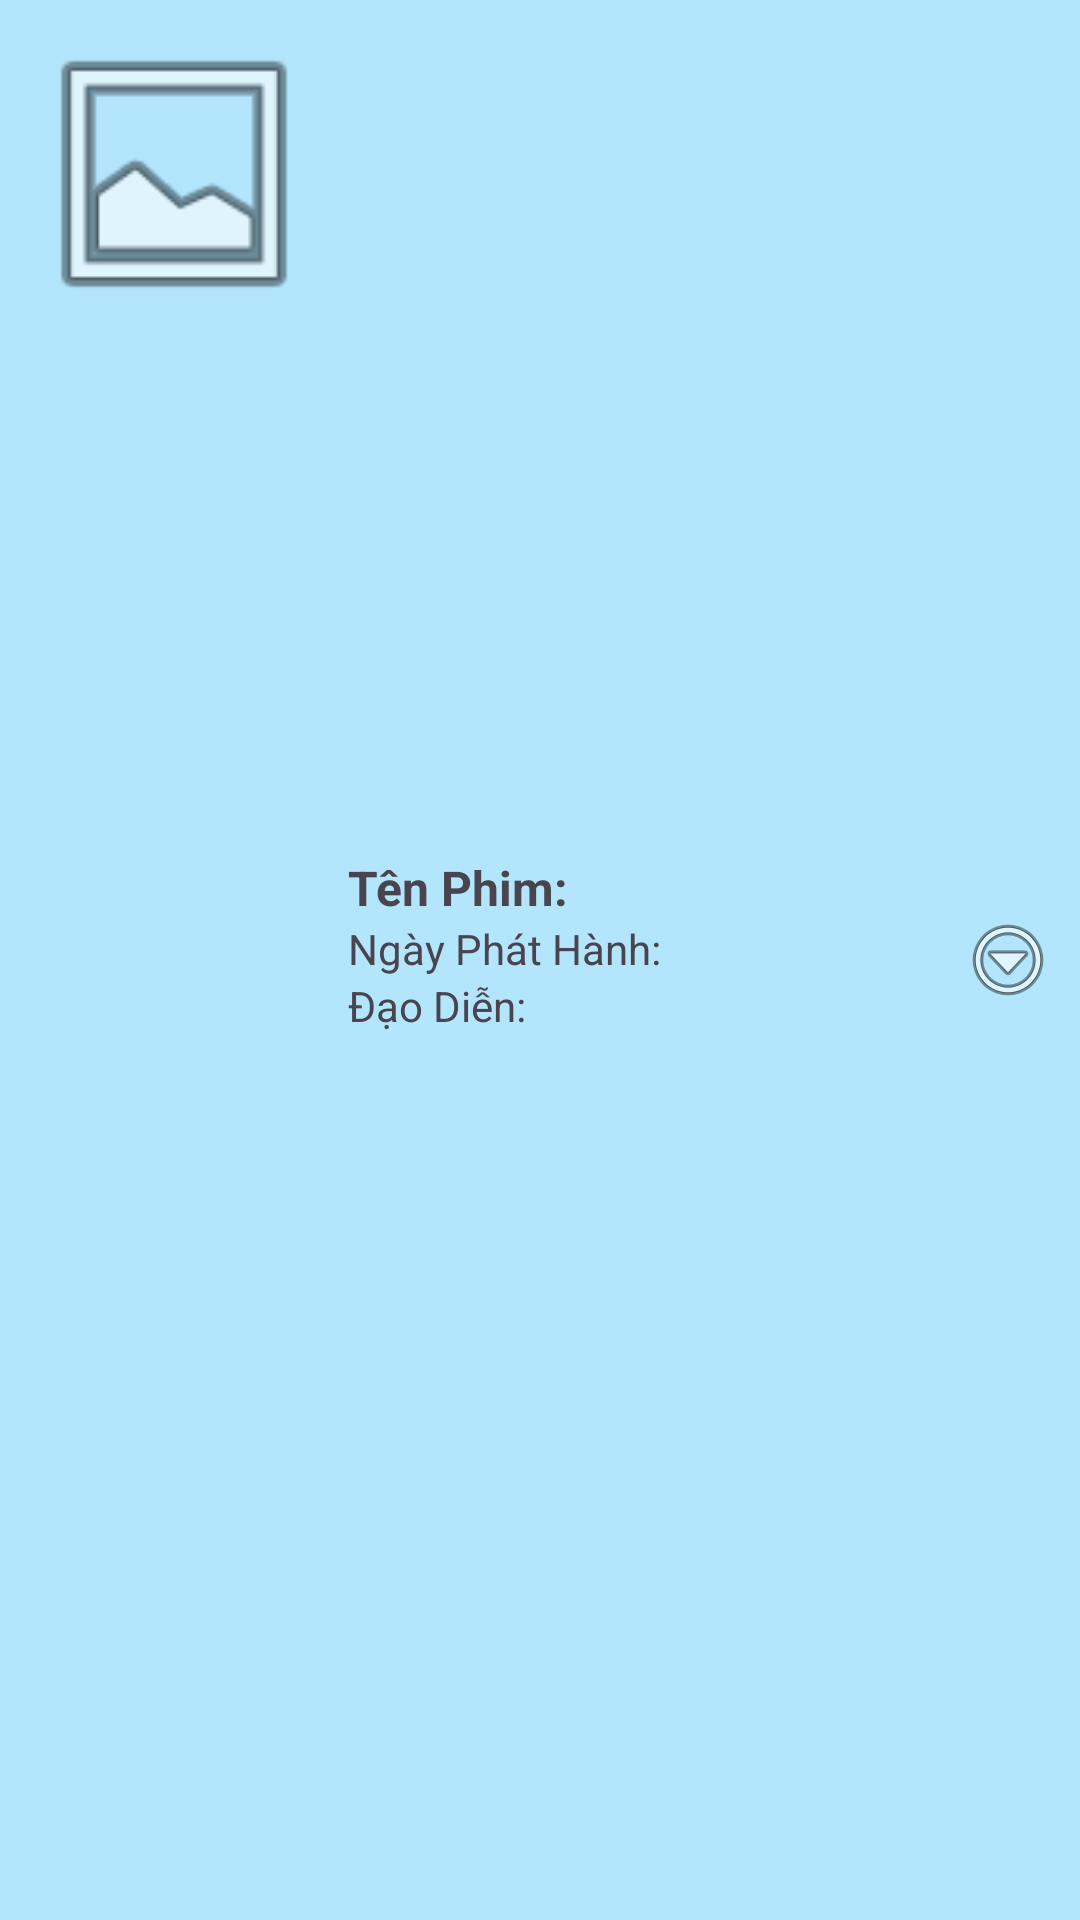

Icons on this 1080*1920 Android screen, each with its box as (x1, y1, x2, y2):
Menu: (972, 924, 1044, 996)
Movie Poster: (61, 61, 287, 287)
